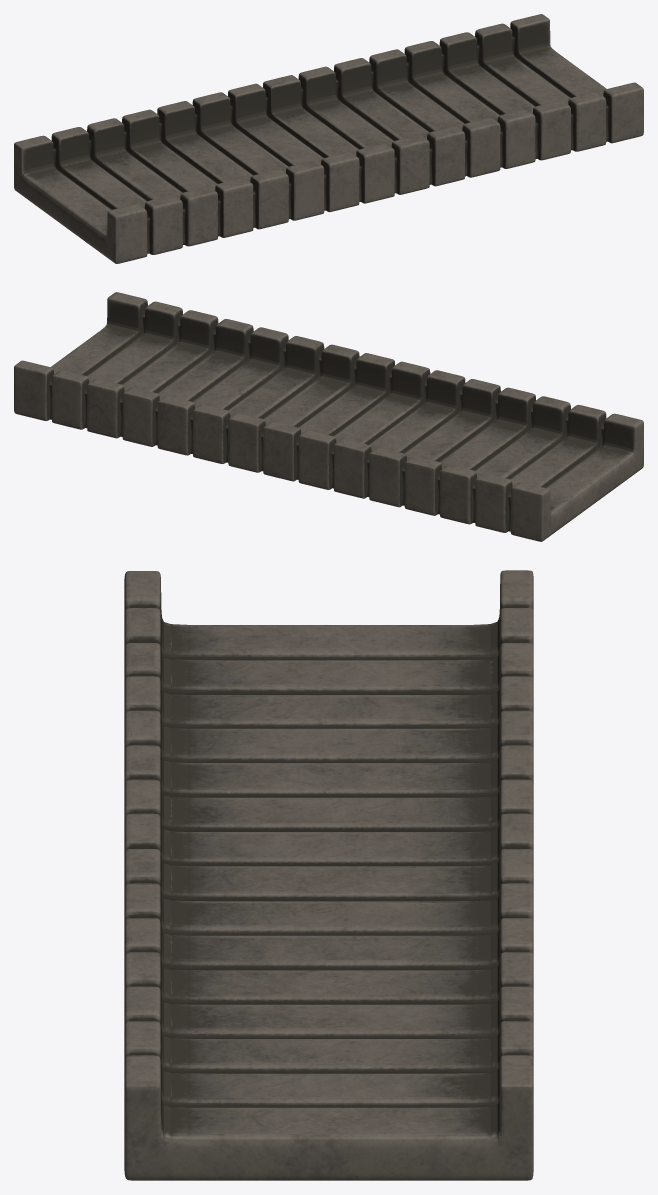
File: puente.glb
3 renders of one model, top to bottom at view 1: azimuth 30°, elevation 25°; view 2: azimuth 150°, elevation 25°; view 3: azimuth 270°, elevation 25°, orthographic. The views are drawn at different scales.
Visible parts, largest first — view 1: Puente; view 2: Puente; view 3: Puente.
Boxes of the visible parts, x1,y1,x2,y2 form: Puente: (14,14,643,263); Puente: (14,292,643,541); Puente: (124,570,533,1180).
Size of the model in its own units: 1.79 by 0.1568 by 0.5986.
Materials: 1 (1 with a texture image).
